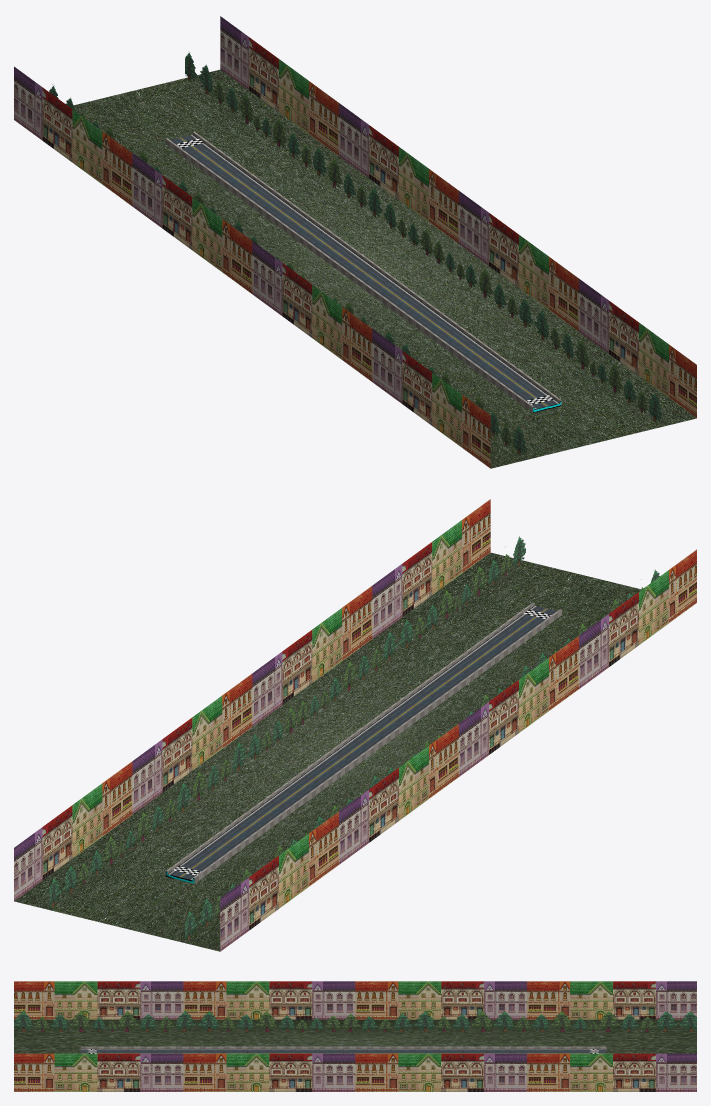
The model's file is road_all_2.obj.
The picture shows the model from 3 angles, top to bottom: view 1: azimuth 30°, elevation 25°; view 2: azimuth 150°, elevation 25°; view 3: azimuth 270°, elevation 25°; orthographic projection. The views are drawn at different scales.
Visible parts, largest first — view 1: Plane, Plane.002, Cube.007, Plane.001; view 2: Plane, Plane.002, Cube.007, Plane.001; view 3: Plane.002, Plane, Plane.001, Cube.007.
Part boxes in pixels (left/top/right/bottom): Plane: left=74, top=69, right=696, bottom=468; Plane.002: left=14, top=16, right=696, bottom=468; Cube.007: left=165, top=131, right=561, bottom=412; Plane.001: left=49, top=52, right=661, bottom=455; Plane: left=14, top=552, right=640, bottom=951; Plane.002: left=14, top=499, right=696, bottom=951; Cube.007: left=165, top=602, right=561, bottom=883; Plane.001: left=49, top=536, right=659, bottom=940; Plane.002: left=14, top=981, right=696, bottom=1091; Plane: left=14, top=1019, right=696, bottom=1053; Plane.001: left=14, top=1011, right=696, bottom=1031; Cube.007: left=80, top=1046, right=606, bottom=1053.
Size of the model in its own units: 10 by 2.56 by 40.
Materials: 39 (39 with a texture image).
